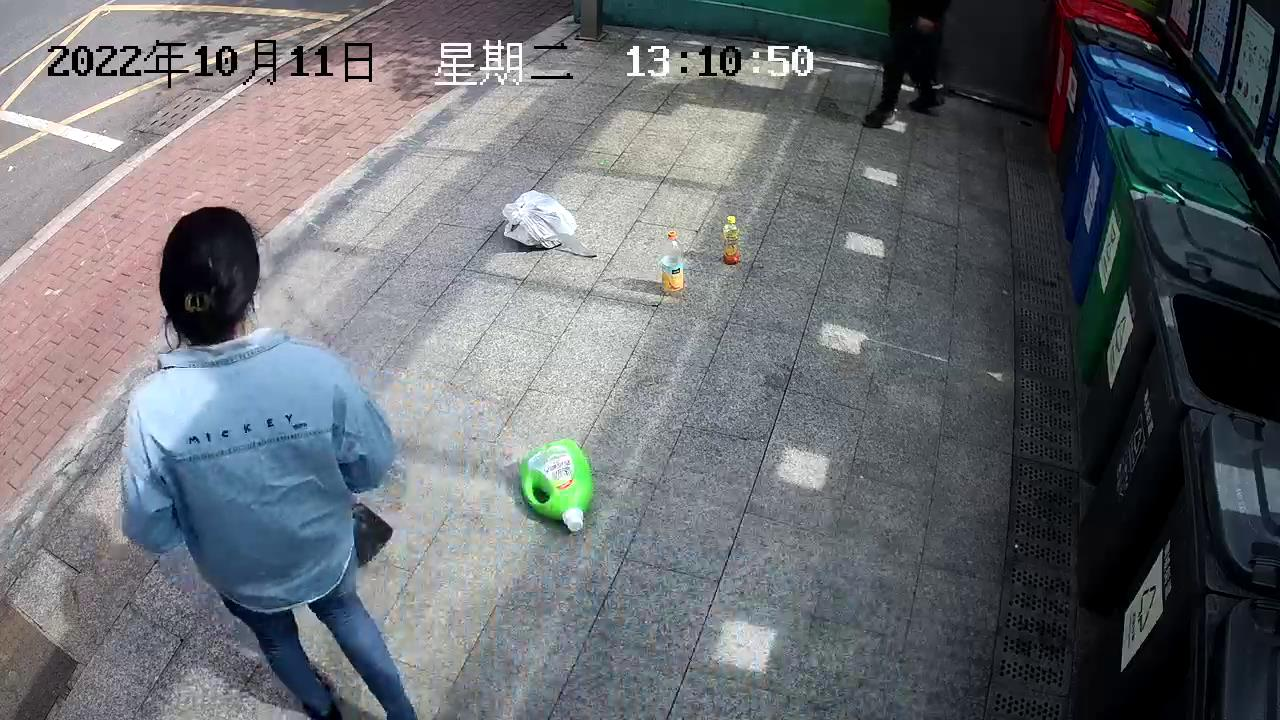garbage-bag: (500, 187, 579, 252)
suliaozhipin: (516, 436, 594, 536), (658, 228, 687, 302), (721, 211, 742, 265)
worker: (115, 205, 422, 720)
